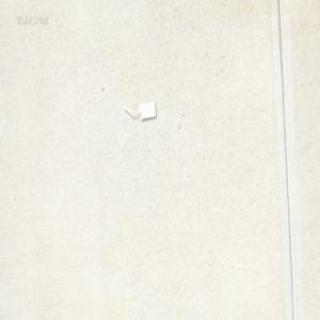LuggageTagtrack_idkeyframe: (120, 99, 156, 120)
